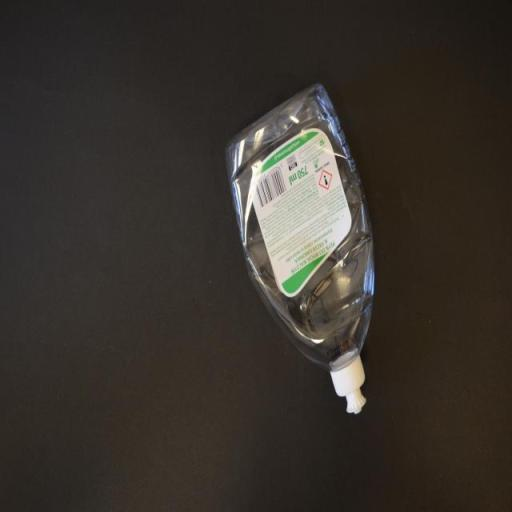plastic: (224, 82, 378, 418)
